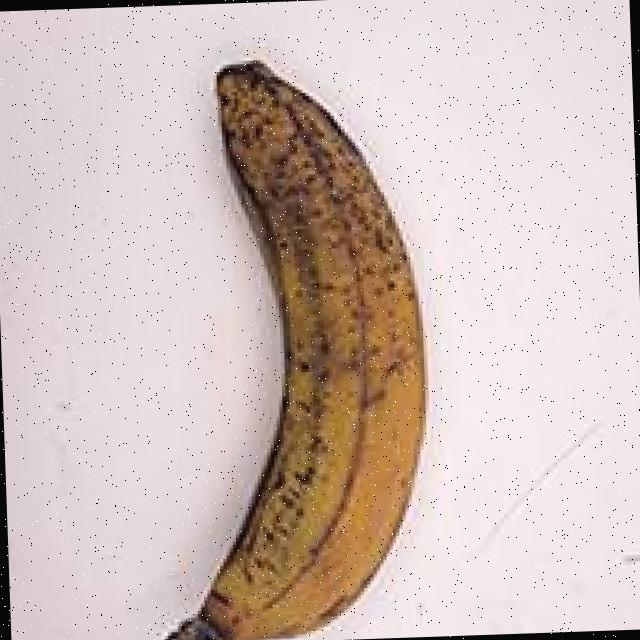Overripe: (95, 19, 474, 640)
